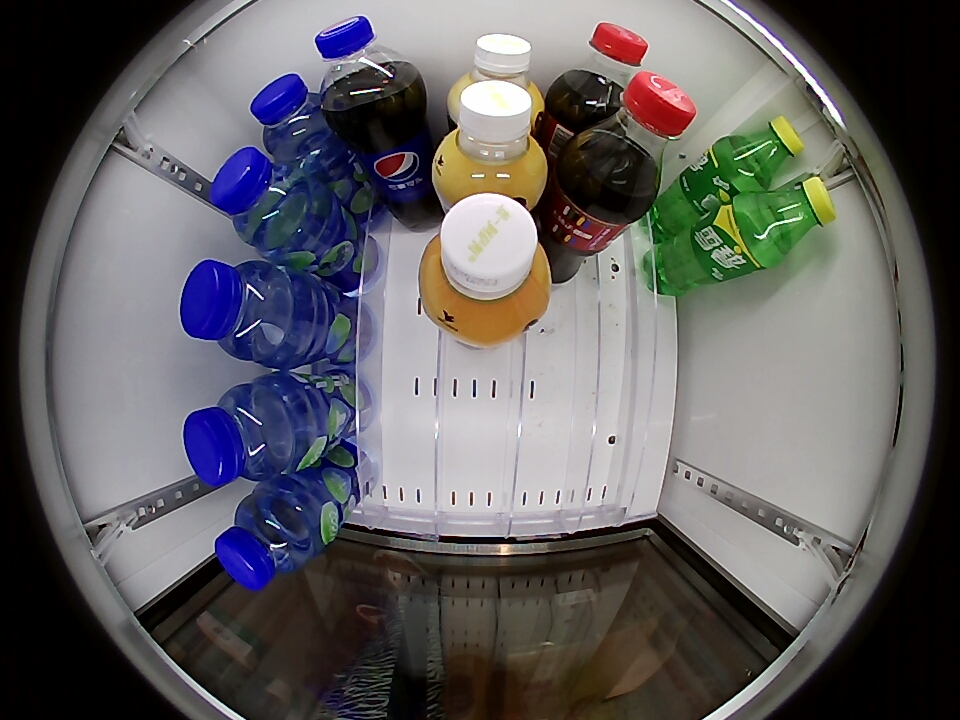asamu: (419, 193, 551, 344), (434, 80, 549, 205), (447, 34, 542, 115)
baishikele-2: (315, 15, 418, 118)
kele-b: (571, 73, 697, 199), (559, 23, 650, 114)
maidong: (180, 258, 304, 363), (183, 381, 305, 486), (208, 147, 320, 251), (214, 487, 323, 590), (250, 73, 336, 163)
xuebi-b: (754, 175, 836, 255), (728, 116, 803, 186)
